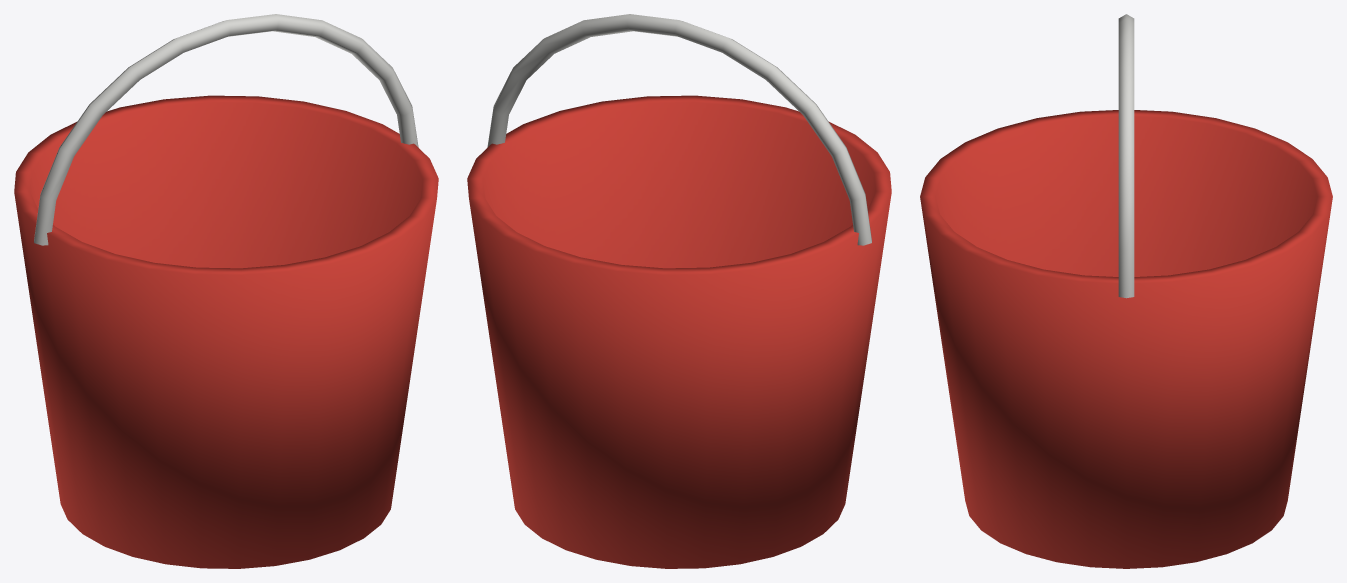
The model's file is Park_Bucket.fbx.
The picture shows the model from 3 angles, left to right: view 1: azimuth 30°, elevation 25°; view 2: azimuth 150°, elevation 25°; view 3: azimuth 270°, elevation 25°; orthographic projection. The views are drawn at different scales.
Visible parts, largest first — view 1: Park_Bucket; view 2: Park_Bucket; view 3: Park_Bucket.
Part boxes in pixels (bbox=[...]): Park_Bucket: bbox=[14, 14, 438, 568]; Park_Bucket: bbox=[467, 14, 891, 568]; Park_Bucket: bbox=[920, 14, 1332, 568].
Bounding box in the file's own units: 3.34 × 3.97 × 3.2.
